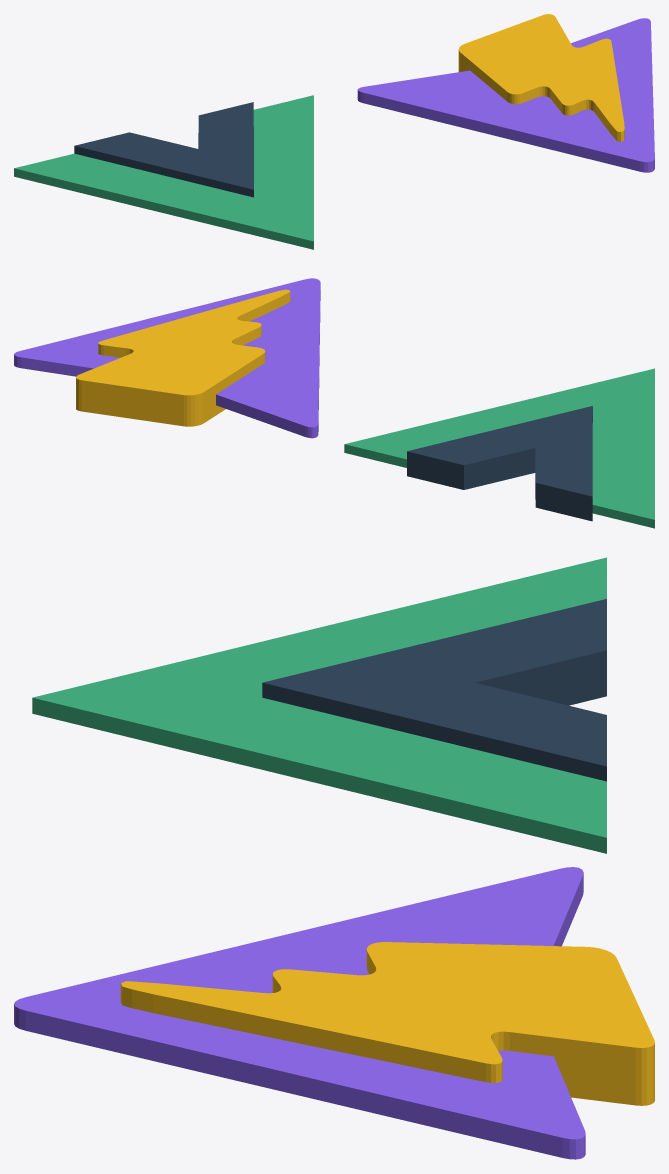
The model's file is vue.fbx.
3 views of the same model, one above another, from view 1: azimuth 30°, elevation 25°; view 2: azimuth 150°, elevation 25°; view 3: azimuth 270°, elevation 25° (orthographic). The views are drawn at different scales.
Parts seen in each view (by area): view 1: Plane.001, Plane; view 2: Plane.001, Plane; view 3: Plane.001, Plane.
Part boxes in pixels (x1,y1,x2,y2): Plane.001: (357,14,654,172); Plane: (14,95,313,249); Plane.001: (14,278,320,438); Plane: (344,368,654,528); Plane.001: (14,867,654,1159); Plane: (32,557,606,853).
Size of the model in its own units: 417 by 193 by 19.22.
